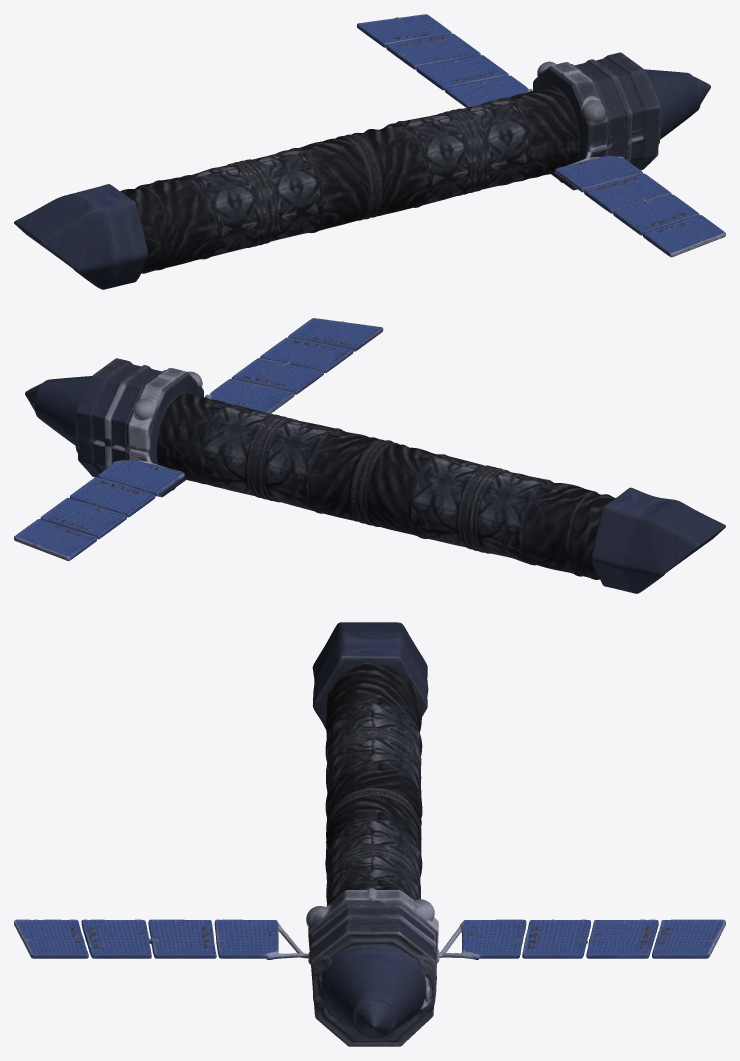
File: athena.glb
3 renders of one model, top to bottom at view 1: azimuth 30°, elevation 25°; view 2: azimuth 150°, elevation 25°; view 3: azimuth 270°, elevation 25°, orthographic. The views are drawn at different scales.
Size of the model in its own units: 1.5 by 0.2321 by 1.19.
Materials: 1 (1 with a texture image).
